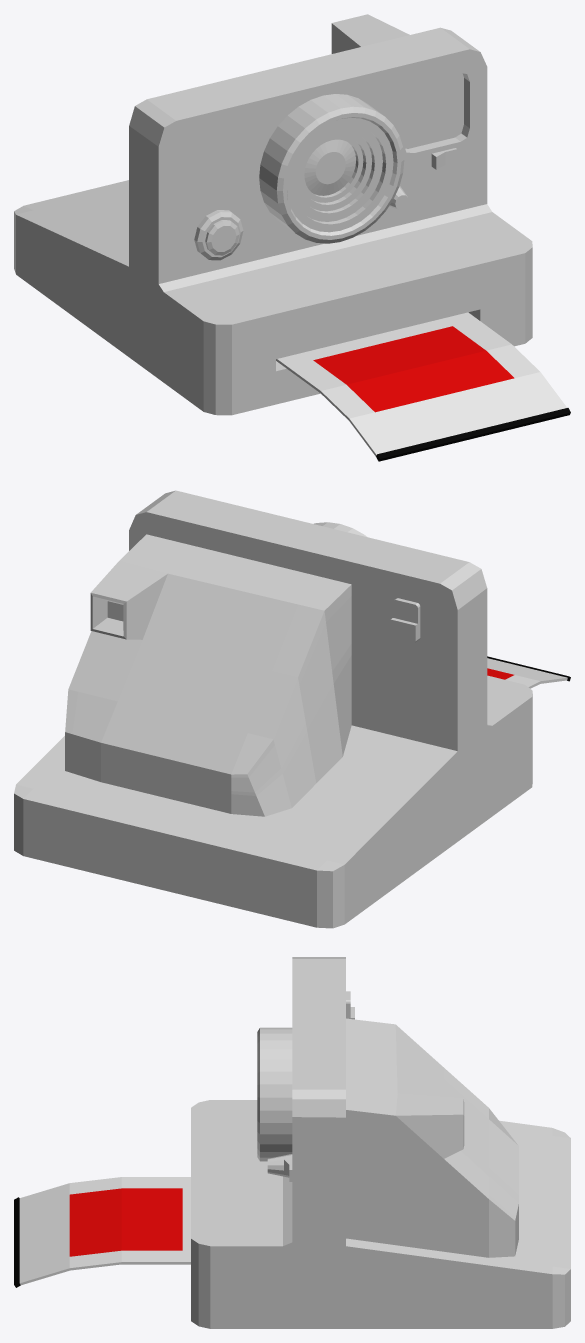
Rendered from HandCamera.fbx.
3 renders of one model, top to bottom at view 1: azimuth 30°, elevation 25°; view 2: azimuth 150°, elevation 25°; view 3: azimuth 270°, elevation 25°, orthographic. The views are drawn at different scales.
Parts seen in each view (by area): view 1: Cube, Cylinder, Cube.003, Cube.004, Cylinder.001; view 2: Cube, Cube.001, Cube.003; view 3: Cube, Cube.003, Cube.004, Cylinder.
Part boxes in pixels (<box>): Cube: <box>14,14,532,415</box>; Cylinder: <box>259,94,404,243</box>; Cube.003: <box>276,312,570,461</box>; Cube.004: <box>313,326,514,412</box>; Cylinder.001: <box>194,210,243,260</box>; Cube: <box>14,490,532,928</box>; Cube.001: <box>390,598,420,643</box>; Cube.003: <box>487,656,570,688</box>; Cube: <box>191,957,570,1328</box>; Cube.003: <box>14,1177,190,1287</box>; Cube.004: <box>69,1188,182,1256</box>; Cylinder: <box>257,1027,292,1161</box>.
Bounding box in the file's own units: 344 × 254 × 553.
